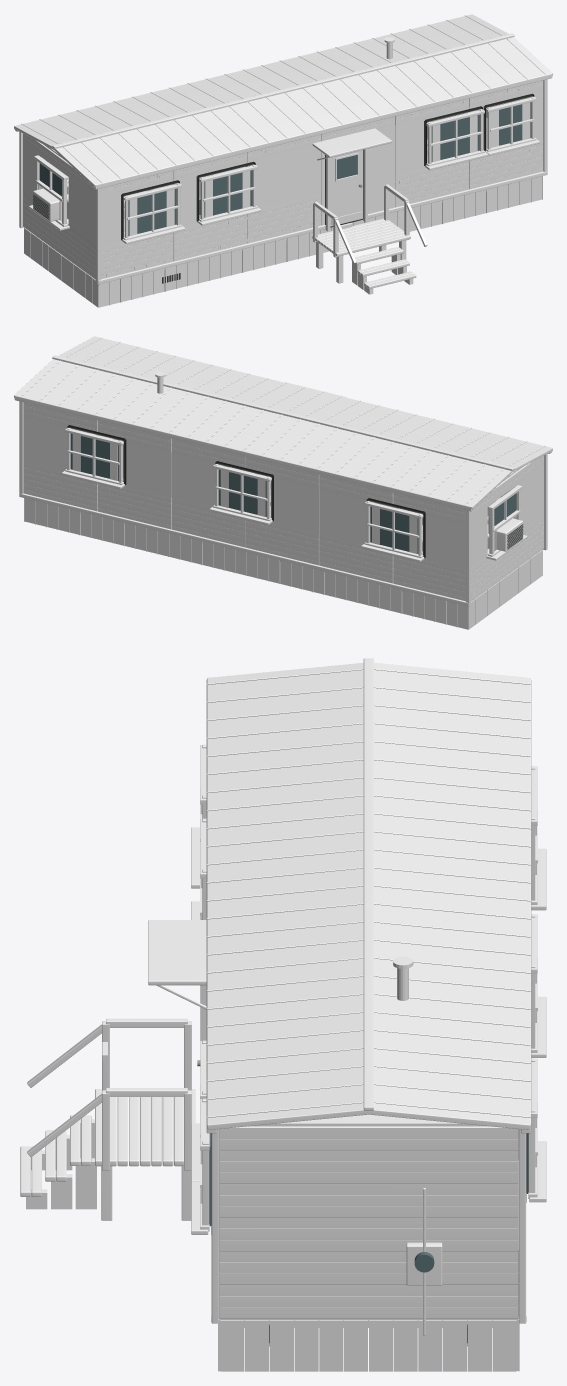
Rendered from trailer_singlewide_a.glb.
3 views of the same model, one above another, from view 1: azimuth 30°, elevation 25°; view 2: azimuth 150°, elevation 25°; view 3: azimuth 270°, elevation 25° (orthographic). The views are drawn at different scales.
Visible parts, largest first — view 1: Shallow pitched roof, Shallow pitched roof.001, Upper eave trim, Roof ridge cap, Lower trim rail, Faded entry door, Entry rain hood, Window pane, Window pane.002, Window pane.001, Structural subfloor, Window pane.003 (+50 smaller); view 2: Shallow pitched roof.001, Shallow pitched roof, Upper eave trim.001, Lower trim rail.001, Roof ridge cap, Window pane.005, Window pane.004, Window pane.006, Structural subfloor, Window AC housing, Corner flashing.002, Long wall lap siding 1 01 02 (+43 smaller); view 3: Shallow pitched roof, Shallow pitched roof.001, Roof ridge cap, Entry rain hood, End lap siding.033, End lap siding.027, End lap siding.025, End lap siding.029, End lap siding.031, End lap siding.001, End lap siding.019, End lap siding.003 (+28 smaller).
Part boxes in pixels (bbox=[...]): Shallow pitched roof: bbox=[54, 37, 552, 187]; Shallow pitched roof.001: bbox=[14, 14, 508, 149]; Upper eave trim: bbox=[93, 73, 552, 189]; Roof ridge cap: bbox=[52, 33, 514, 148]; Lower trim rail: bbox=[98, 171, 546, 283]; Faded entry door: bbox=[330, 150, 362, 226]; Entry rain hood: bbox=[312, 128, 391, 157]; Window pane: bbox=[128, 189, 176, 236]; Window pane.002: bbox=[431, 114, 479, 161]; Window pane.001: bbox=[204, 170, 252, 217]; Structural subfloor: bbox=[24, 176, 541, 285]; Window pane.003: bbox=[499, 102, 530, 145]; Shallow pitched roof.001: bbox=[14, 359, 512, 509]; Shallow pitched roof: bbox=[58, 336, 552, 471]; Upper eave trim.001: bbox=[14, 395, 473, 511]; Lower trim rail.001: bbox=[20, 493, 468, 606]; Roof ridge cap: bbox=[52, 355, 514, 470]; Window pane.005: bbox=[218, 469, 266, 516]; Window pane.004: bbox=[370, 506, 418, 553]; Window pane.006: bbox=[70, 433, 118, 480]; Structural subfloor: bbox=[25, 498, 518, 607]; Window AC housing: bbox=[496, 518, 522, 551]; Corner flashing.002: bbox=[466, 510, 470, 606]; Long wall lap siding 1 01 02: bbox=[245, 538, 319, 561]; Shallow pitched roof: bbox=[207, 662, 369, 1129]; Shallow pitched roof.001: bbox=[368, 662, 530, 1129]; Roof ridge cap: bbox=[363, 658, 373, 1110]; Entry rain hood: bbox=[148, 920, 206, 985]; End lap siding.033: bbox=[219, 1126, 518, 1138]; End lap siding.027: bbox=[219, 1161, 518, 1172]; End lap siding.025: bbox=[219, 1172, 518, 1183]; End lap siding.029: bbox=[219, 1150, 518, 1161]; End lap siding.031: bbox=[219, 1139, 518, 1150]; End lap siding.001: bbox=[219, 1307, 518, 1318]; End lap siding.019: bbox=[219, 1206, 518, 1217]; End lap siding.003: bbox=[219, 1296, 518, 1307].
Size of the model in its own units: 12.64 by 4.1 by 6.16.
